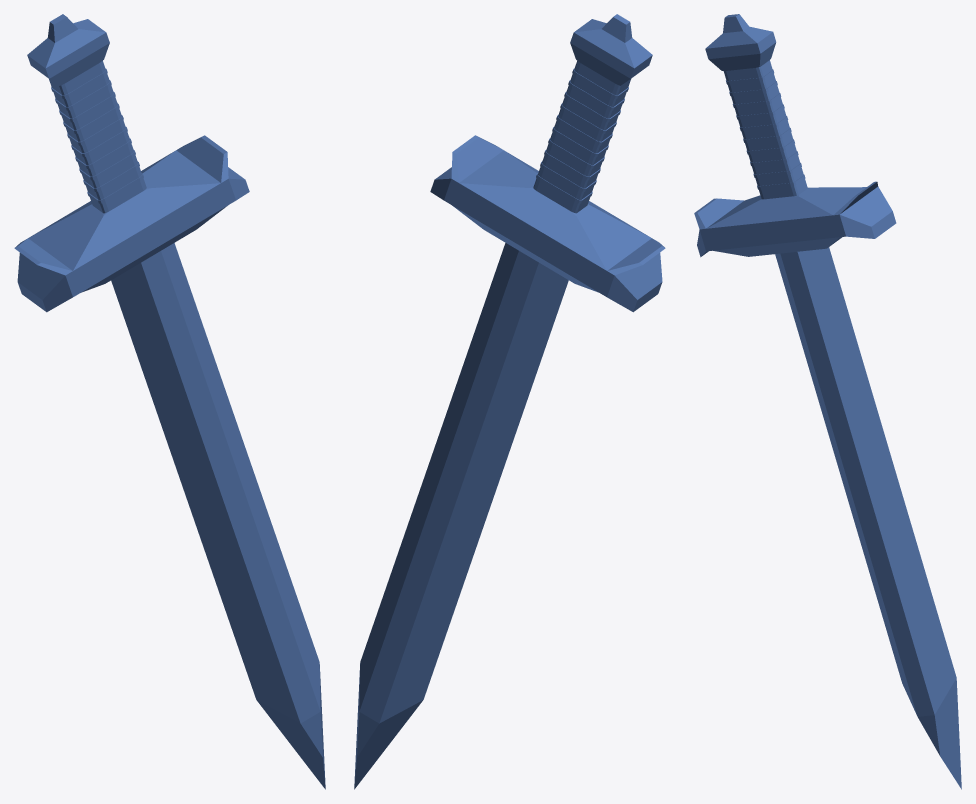
File: Sword.fbx
3 renders of one model, left to right at view 1: azimuth 30°, elevation 25°; view 2: azimuth 150°, elevation 25°; view 3: azimuth 330°, elevation 25°, orthographic. The views are drawn at different scales.
Parts seen in each view (by area): view 1: Sword; view 2: Sword; view 3: Sword.
Boxes of the visible parts, x1=… form: Sword: x1=14, y1=14, x2=325, y2=789; Sword: x1=354, y1=14, x2=665, y2=789; Sword: x1=694, y1=14, x2=961, y2=789.
Bounding box in the file's own units: 272 × 726 × 70.5.
